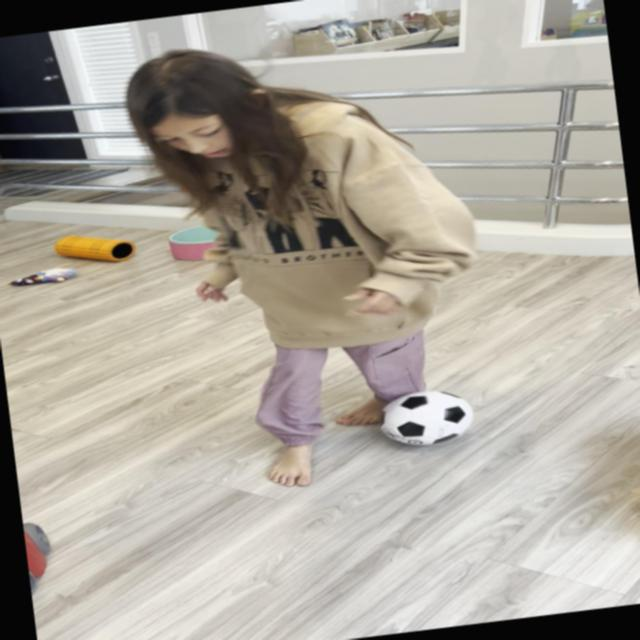Soccer Ball: (375, 385, 478, 450)
